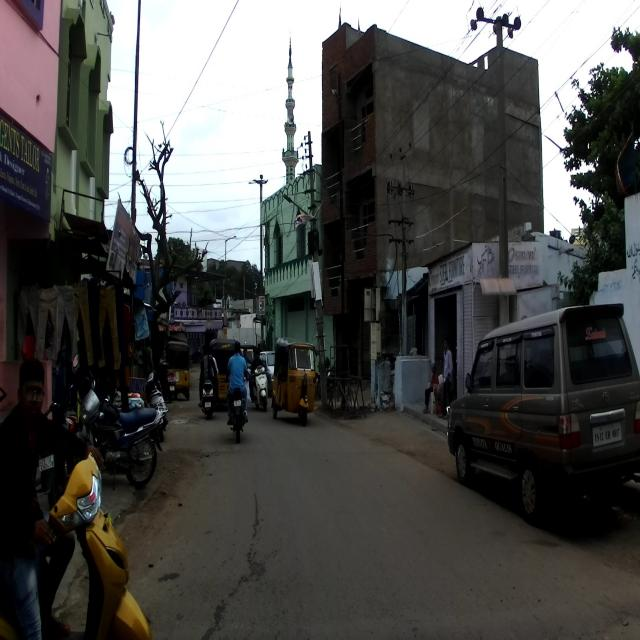Car_Toyota: (446, 302, 640, 535)
autorickshaw: (270, 335, 318, 426)
motorcycle_Hero: (65, 353, 166, 485)
motorcycle_bajaj: (224, 371, 252, 444)
scooter: (0, 427, 151, 639), (248, 366, 269, 412)
